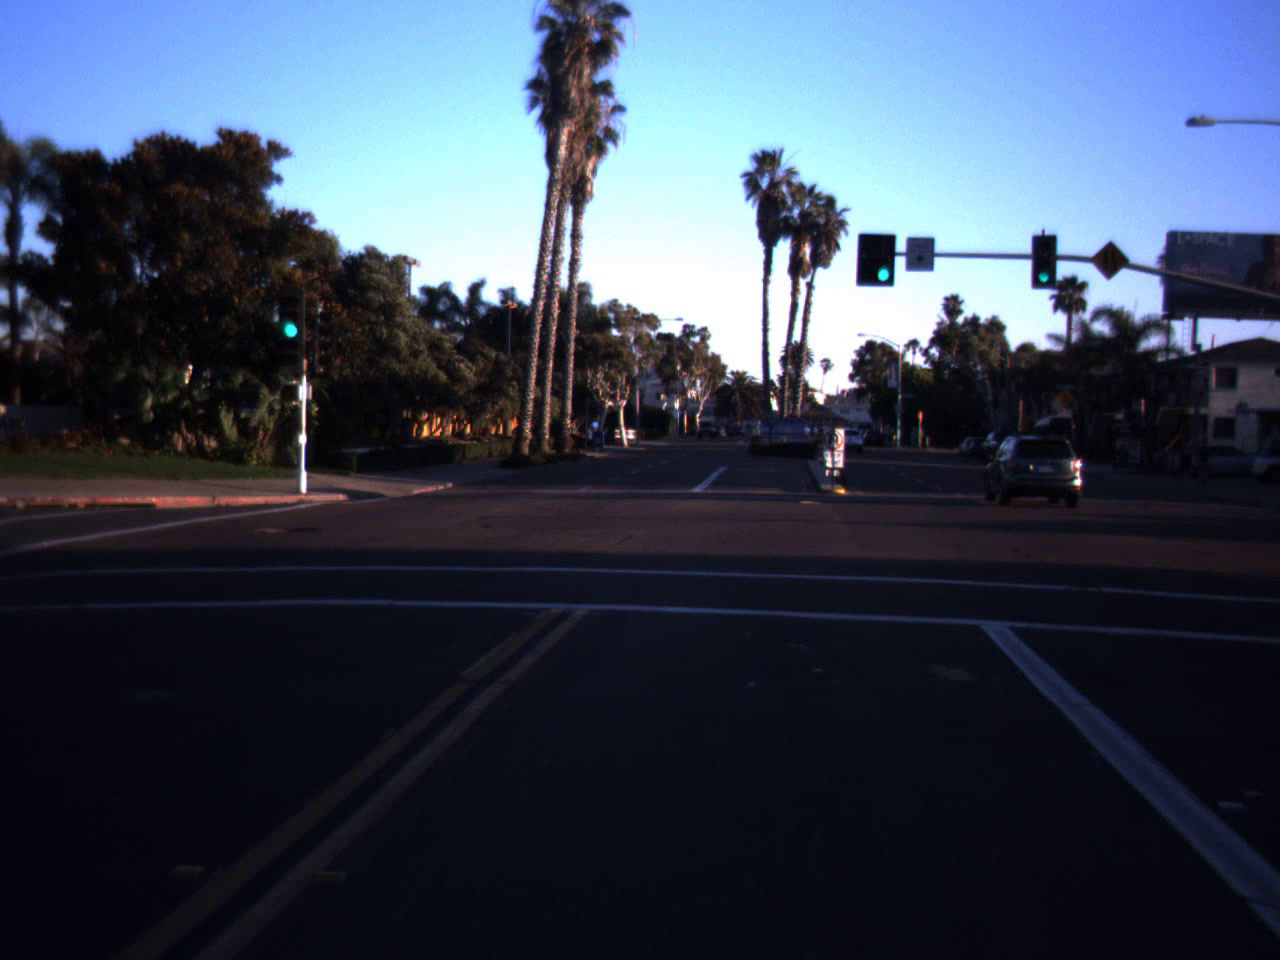go: (276, 282, 306, 342), (870, 235, 897, 285), (1035, 255, 1053, 285)
